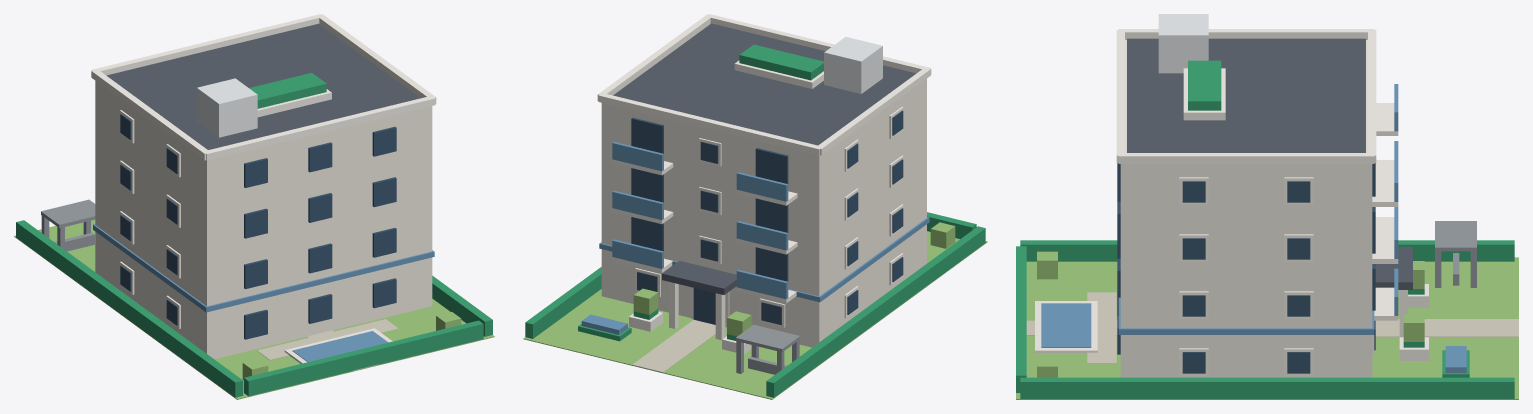
The picture shows the model from 3 angles, left to right: view 1: azimuth 30°, elevation 25°; view 2: azimuth 150°, elevation 25°; view 3: azimuth 270°, elevation 25°; orthographic projection. The views are drawn at different scales.
Visible parts, largest first — view 1: block, roof, hedge (×3), parapet (×4), window_glass (×12), lawn, plant_room, string_course, roof_planter_hedge, pool, bike_shed_roof, terrace (+2 smaller); view 2: block, roof, lawn, hedge (×3), parapet (×4), balcony_glass (×6), window_glass (×6), plant_room, path, roof_planter_hedge, tree_spot (×3), canopy (+7 smaller); view 3: block, roof, hedge (×3), lawn, parapet (×4), window_glass (×8), balcony (×4), plant_room, pool, path, string_course, roof_planter_hedge (+8 smaller).
Part boxes in pixels (<box>): block: <box>95,81,432,359</box>; roof: <box>106,23,420,149</box>; hedge (×3): <box>16,220,492,397</box>; parapet (×4): <box>91,14,436,160</box>; window_glass (×12): <box>244,126,396,339</box>; lawn: <box>14,219,494,399</box>; plant_room: <box>196,78,257,137</box>; string_course: <box>93,224,434,312</box>; roof_planter_hedge: <box>249,73,326,108</box>; pool: <box>292,331,388,361</box>; bike_shed_roof: <box>41,199,95,228</box>; terrace: <box>257,319,398,360</box>; block: <box>601,78,926,347</box>; roof: <box>613,23,916,145</box>; lawn: <box>523,231,987,399</box>; hedge (×3): <box>525,212,985,397</box>; parapet (×4): <box>597,14,931,155</box>; balcony_glass (×6): <box>612,141,788,299</box>; window_glass (×6): <box>631,117,788,281</box>; plant_room: <box>824,37,882,93</box>; path: <box>632,320,715,372</box>; roof_planter_hedge: <box>739,44,823,80</box>; tree_spot (×3): <box>633,222,955,336</box>; canopy: <box>662,260,736,294</box>; block: <box>1120,40,1372,377</box>; roof: <box>1127,38,1365,152</box>; hedge (×3): <box>1016,240,1514,398</box>; lawn: <box>1016,257,1518,399</box>; parapet (×4): <box>1116,29,1376,163</box>; window_glass (×8): <box>1182,181,1310,373</box>; balcony (×4): <box>1372,103,1398,320</box>; plant_room: <box>1158,14,1208,73</box>; pool: <box>1041,303,1091,347</box>; path: <box>1375,319,1518,336</box>; string_course: <box>1118,297,1374,334</box>; roof_planter_hedge: <box>1188,60,1221,110</box>.
Size of the model in its own units: 16 by 14.17 by 24.
